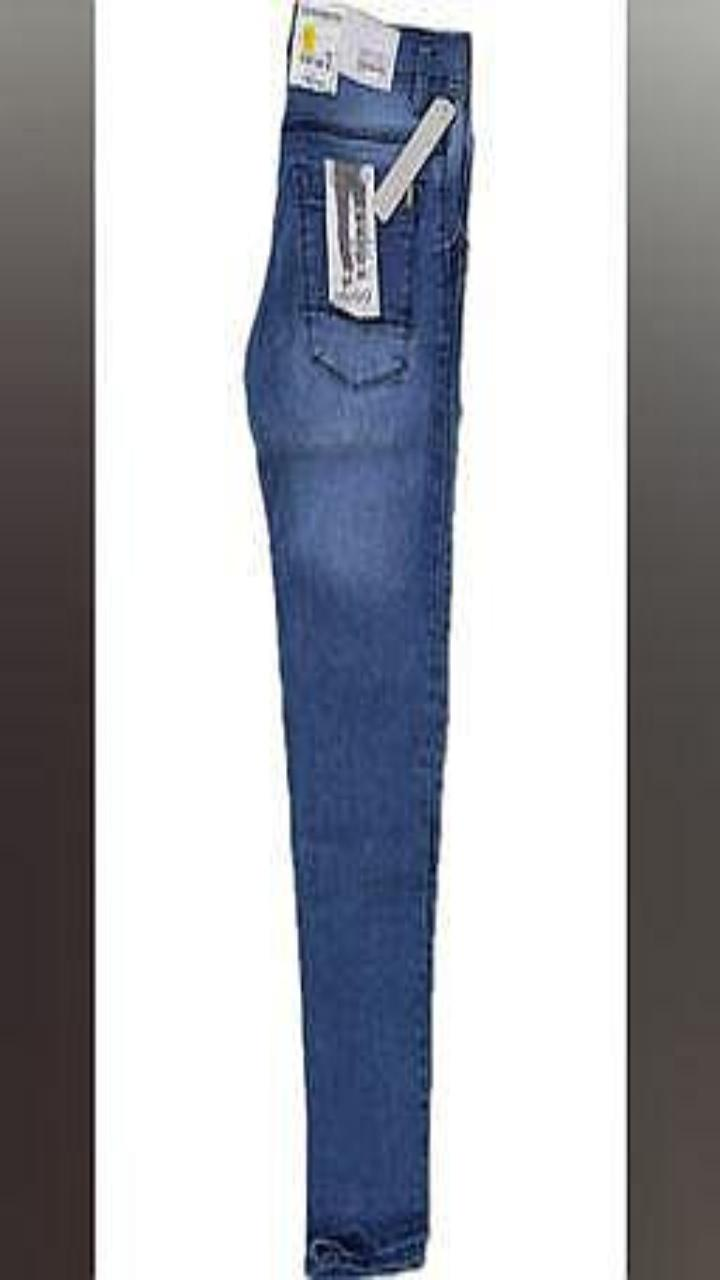Jeans: (245, 29, 471, 1277)
